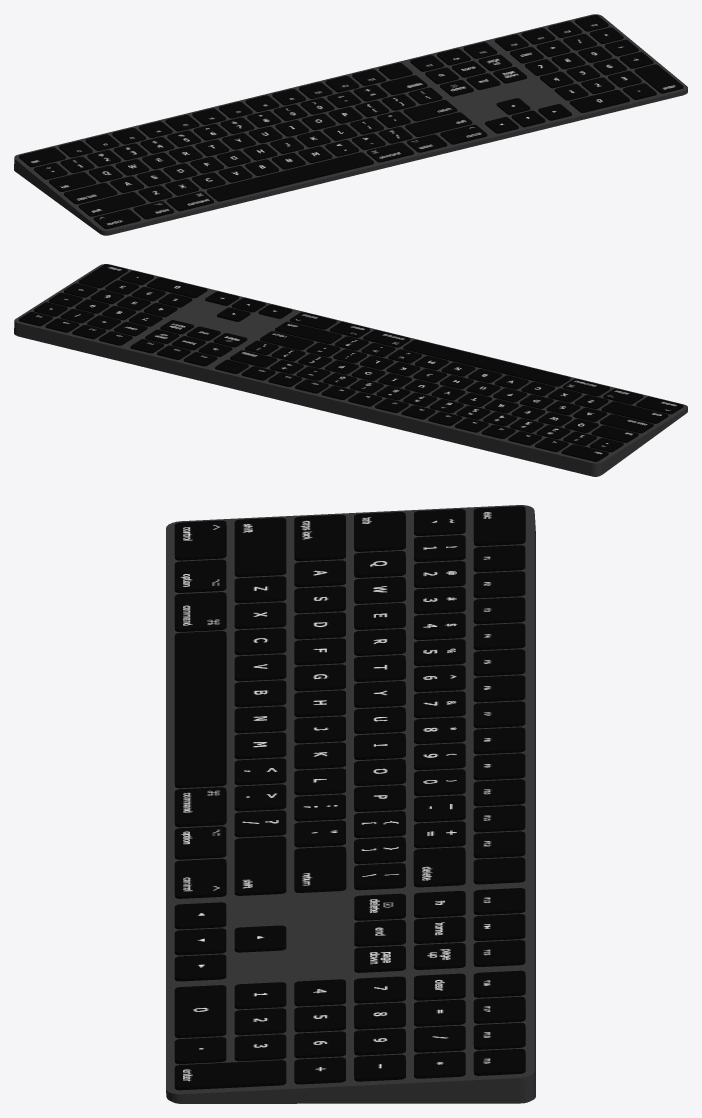
Rendered from magic-keyboard.glb.
3 views of the same model, one above another, from view 1: azimuth 30°, elevation 25°; view 2: azimuth 150°, elevation 25°; view 3: azimuth 270°, elevation 25° (orthographic). The views are drawn at different scales.
Parts seen in each view (by area): view 1: magic-keyboard; view 2: magic-keyboard; view 3: magic-keyboard.
Part boxes in pixels (left/top/right/bottom): magic-keyboard: left=14, top=14, right=687, bottom=235; magic-keyboard: left=14, top=264, right=687, bottom=476; magic-keyboard: left=166, top=505, right=535, bottom=1103.
Size of the model in its own units: 0.4178 by 0.0109 by 0.1141.
Materials: 2 (1 with a texture image).
